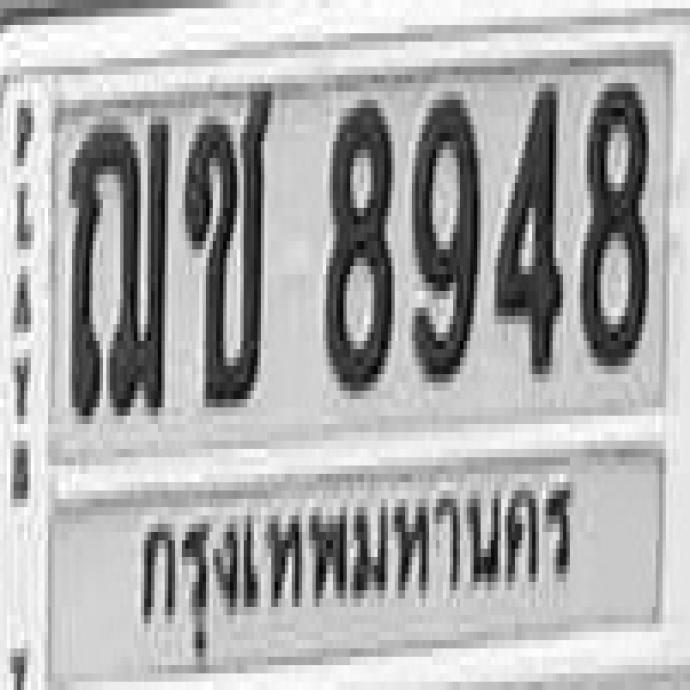4: (491, 78, 558, 368)
8: (321, 92, 389, 384), (577, 74, 644, 360)
9: (408, 90, 475, 375)
A10: (181, 75, 269, 398)
A12: (66, 110, 166, 413)
BKK: (129, 463, 586, 653)
